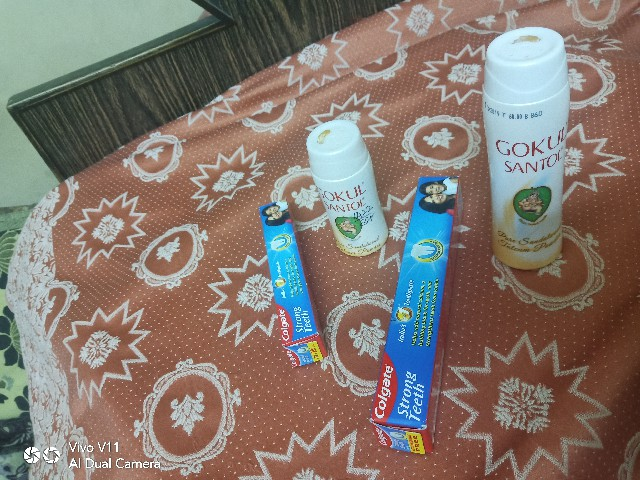colgatetoothpaste big: (374, 167, 466, 452)
colgatetoothpaste small: (248, 201, 329, 377)
gokulsantol big: (477, 11, 586, 278)
gokulsantol small: (302, 121, 388, 257)
